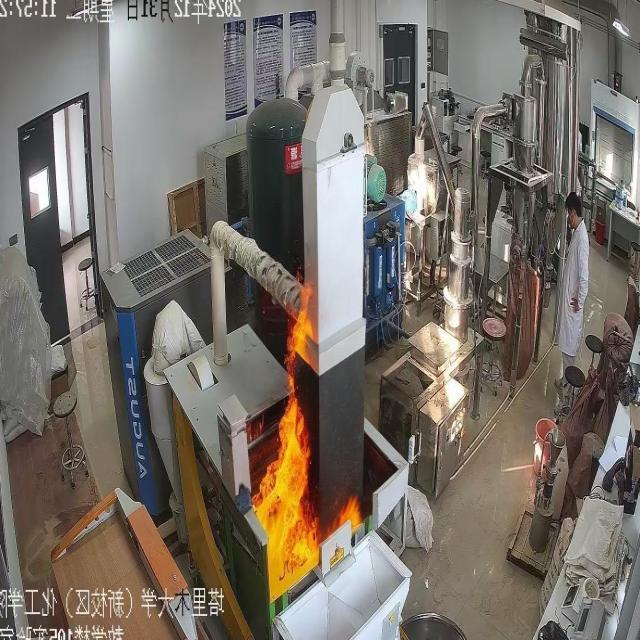smoke: (256, 307, 359, 594)
